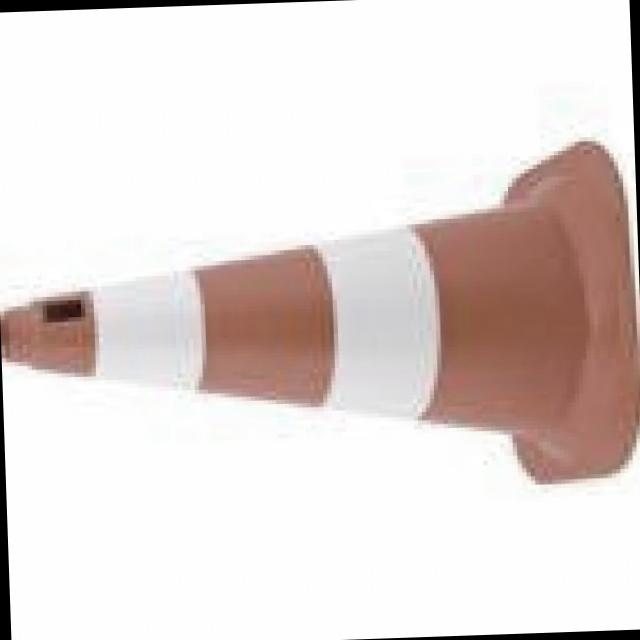cone: (4, 147, 638, 490)
